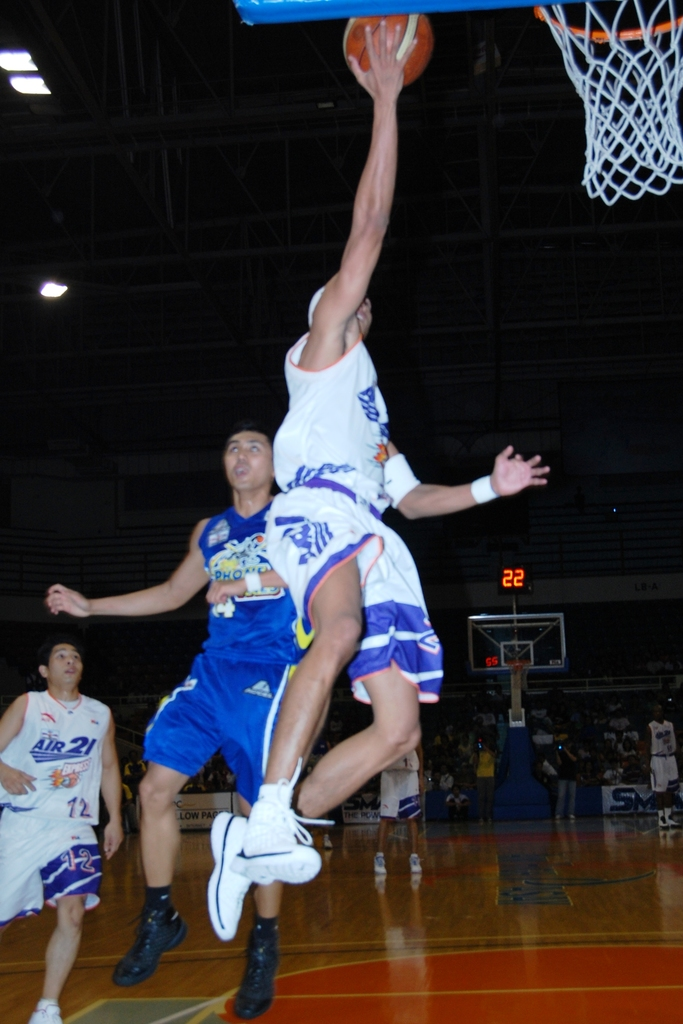Ball: (345, 13, 431, 83)
